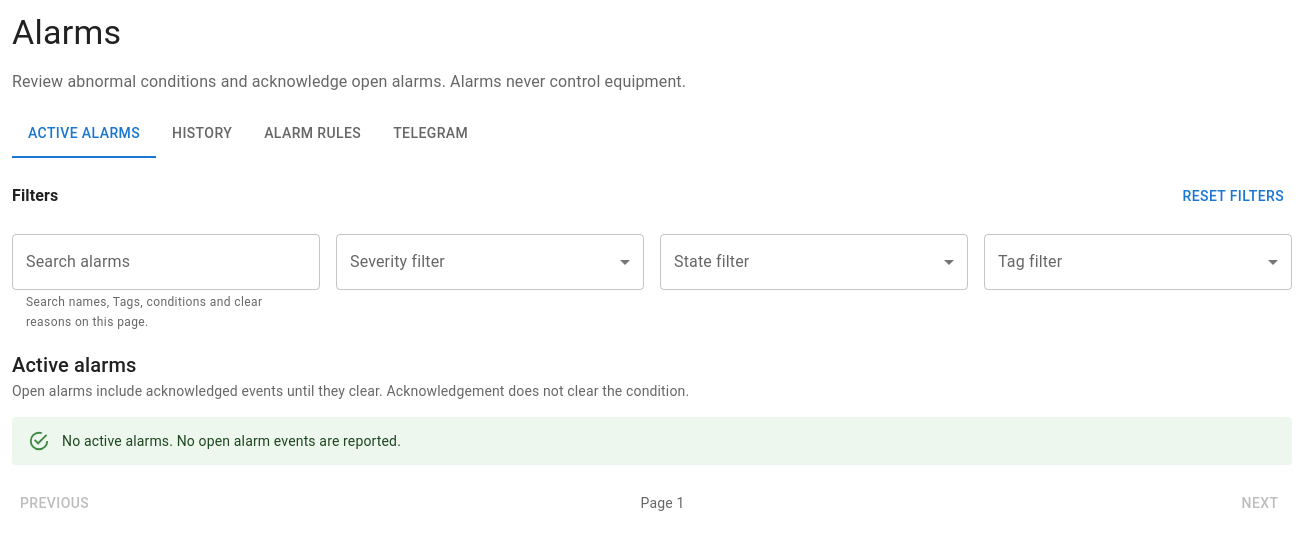
Test: responsive alarm events › provides healthy active-empty, history-empty and filtered-empty states
The width and height of the screenshot is (1304, 547).
expect the text "No active alarms. No open alarm events are reported." is shown: met, box [62,433,401,449]
Type "missing" into the field labelled "Search alarms".
click(166, 262); type("missing")  # box [12,234,320,290]
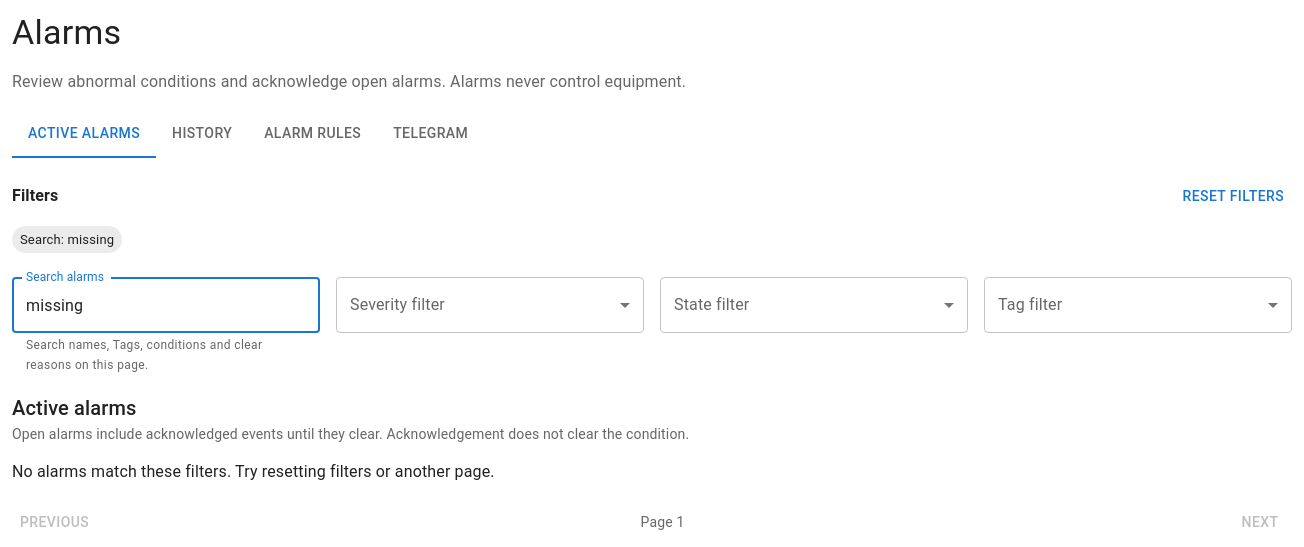
expect the text "No alarms match these filters" is shown: met, box [12,462,495,481]
Click the button "Reset filters".
click(1233, 196)  # box [1175,174,1292,218]
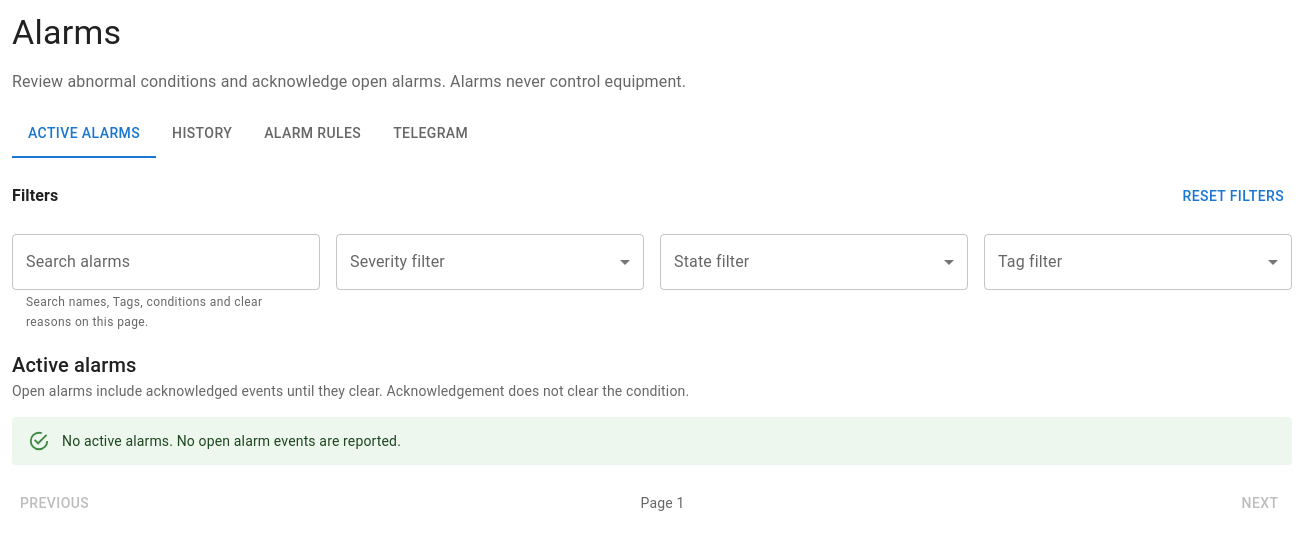
Click the tab "History".
click(202, 134)  # box [156,110,248,158]
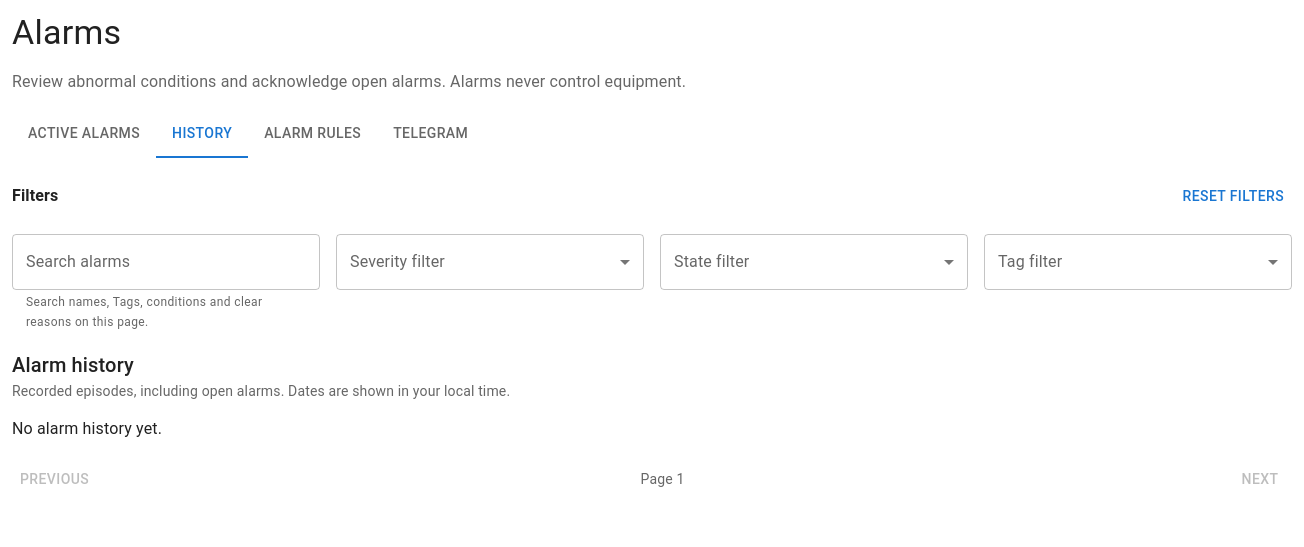
expect the text "No alarm history yet." is shown: met, box [12,419,162,438]
